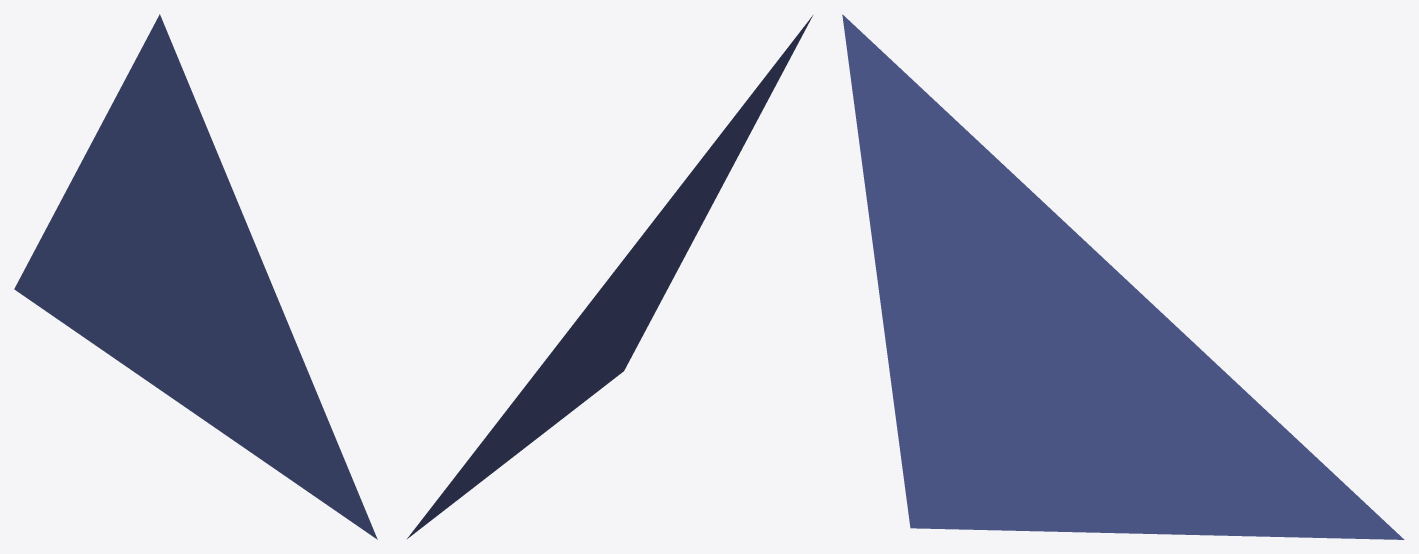
The model's file is Muscle_2_DoorGlass_FR.fbx.
The picture shows the model from 3 angles, left to right: view 1: azimuth 30°, elevation 25°; view 2: azimuth 150°, elevation 25°; view 3: azimuth 270°, elevation 25°; orthographic projection. The views are drawn at different scales.
Visible parts, largest first — view 1: Muscle_2_DoorGlass_FR; view 2: Muscle_2_DoorGlass_FR; view 3: Muscle_2_DoorGlass_FR.
Boxes of the visible parts, x1=… form: Muscle_2_DoorGlass_FR: x1=14, y1=14, x2=377, y2=539; Muscle_2_DoorGlass_FR: x1=407, y1=15, x2=812, y2=538; Muscle_2_DoorGlass_FR: x1=842, y1=14, x2=1404, y2=539.
Size of the model in its own units: 12.22 by 27.95 by 32.61.
